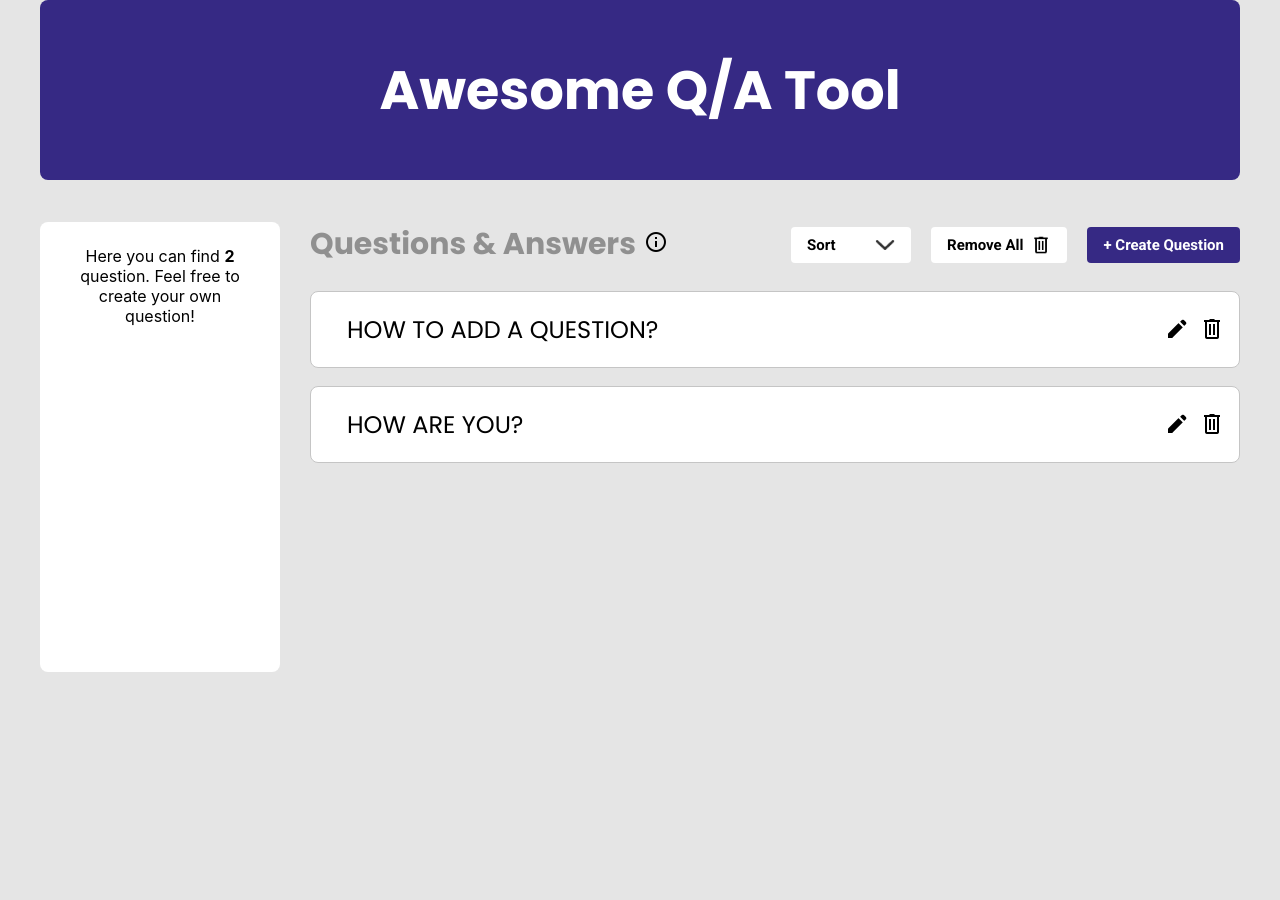
Scenario: Question Answers › sort button works as expected
Click the button with test id "create-button" at (1164, 244), box x1=1087 y1=226 x2=1240 y2=262
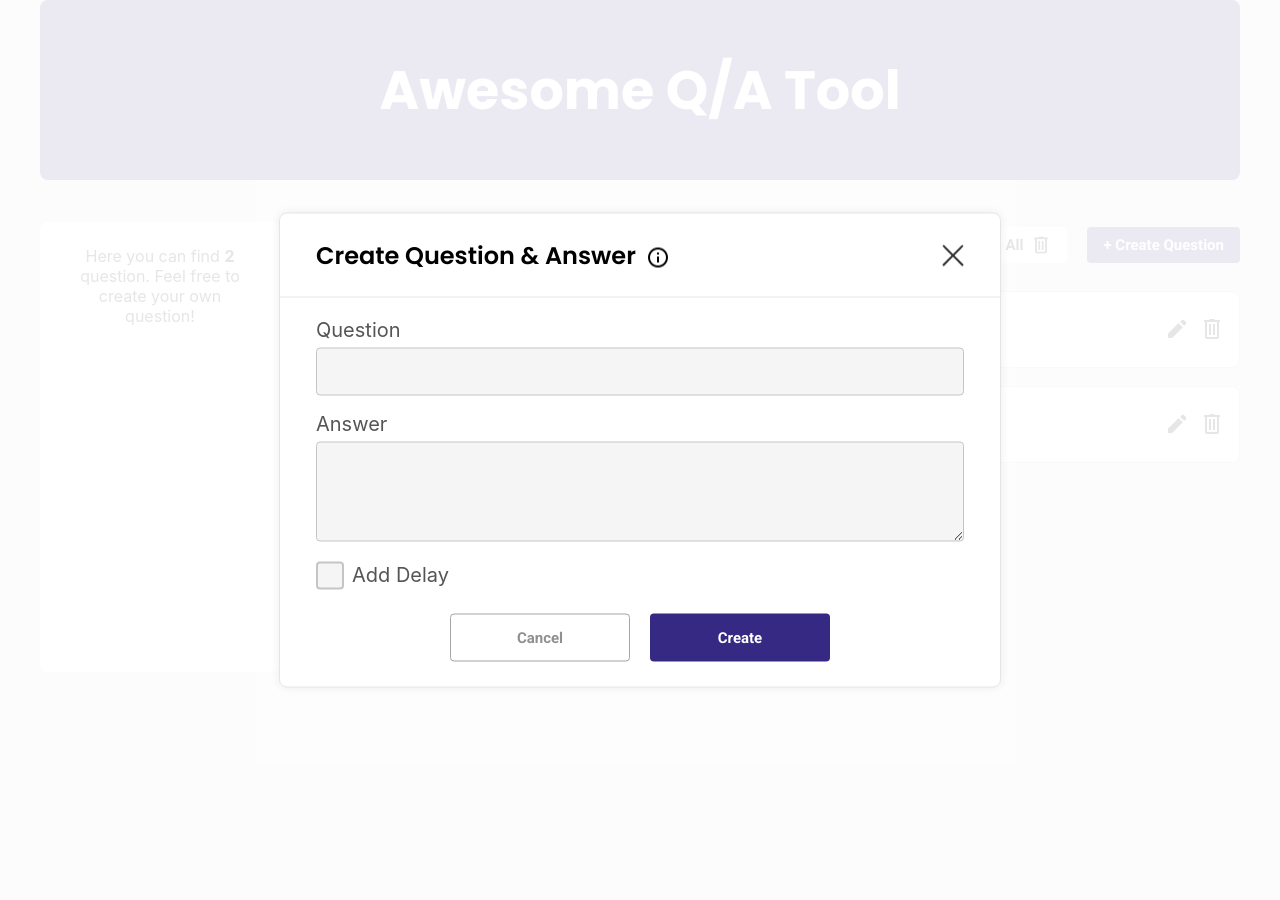
Type "ABCD How are you?" into the field with test id "form-input" at (640, 372), box x1=316 y1=348 x2=964 y2=396
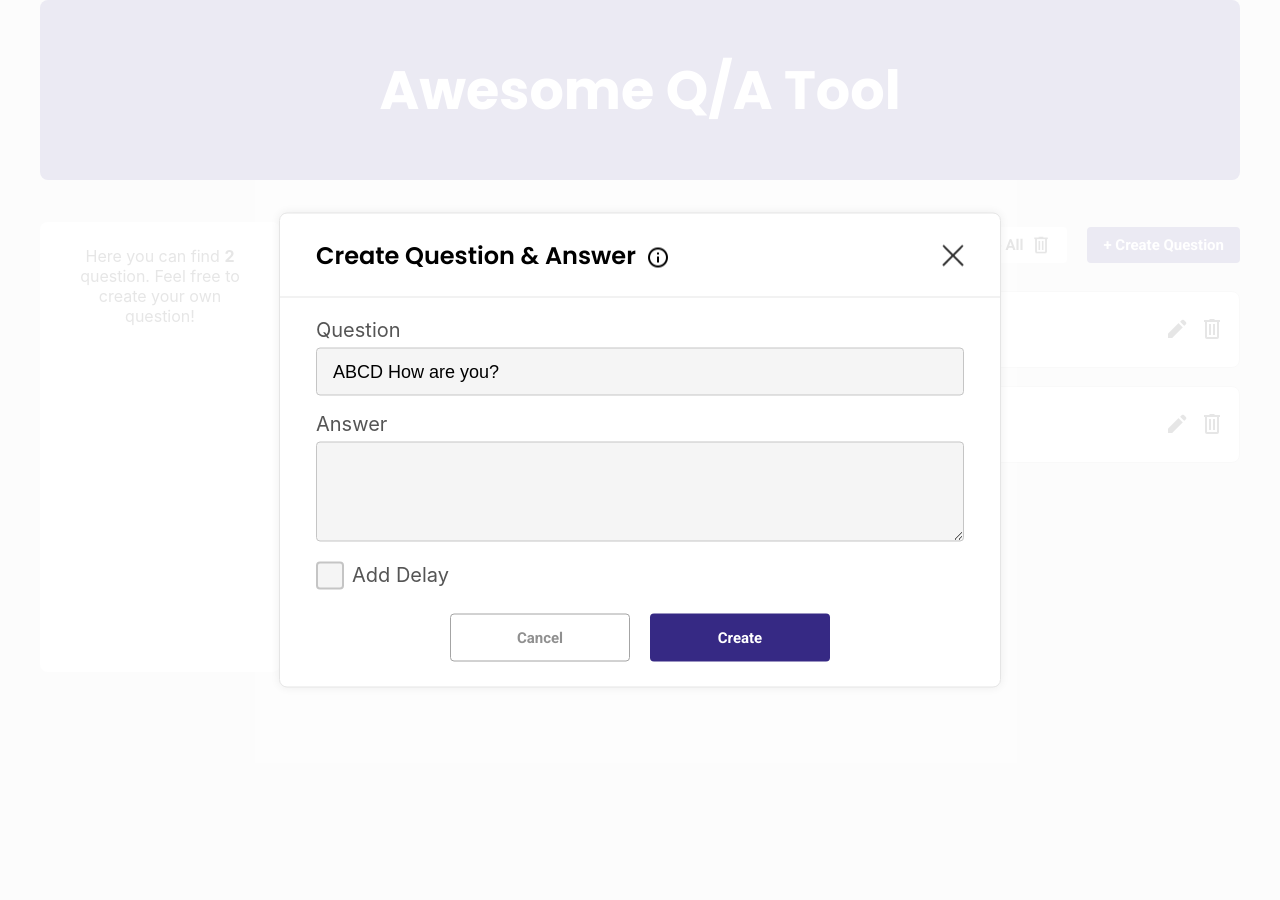
Type "I am Fine" into the text box with test id "text-area" at (640, 492), box x1=316 y1=442 x2=964 y2=542
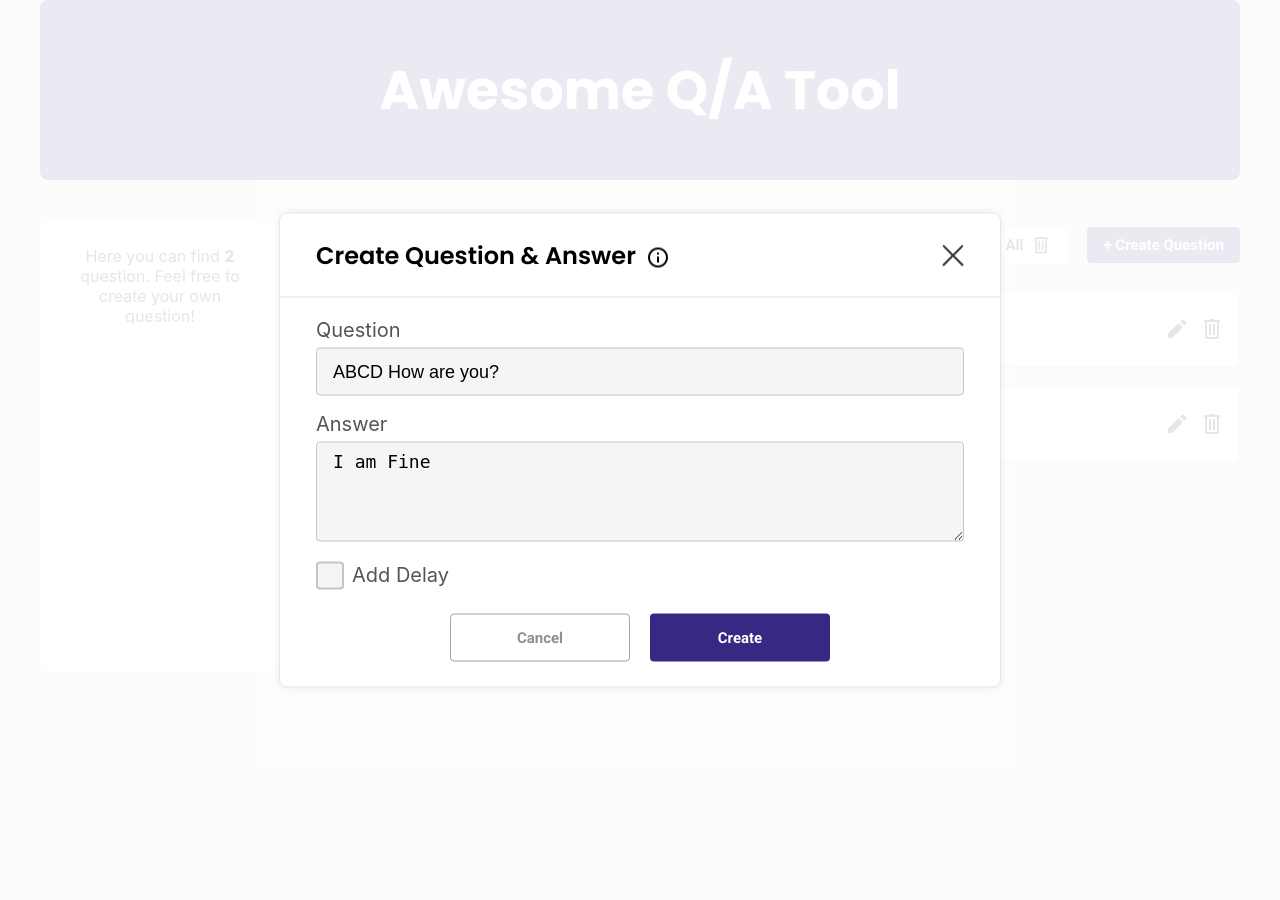
Click the button "Create" at (740, 638), box x1=650 y1=614 x2=830 y2=662
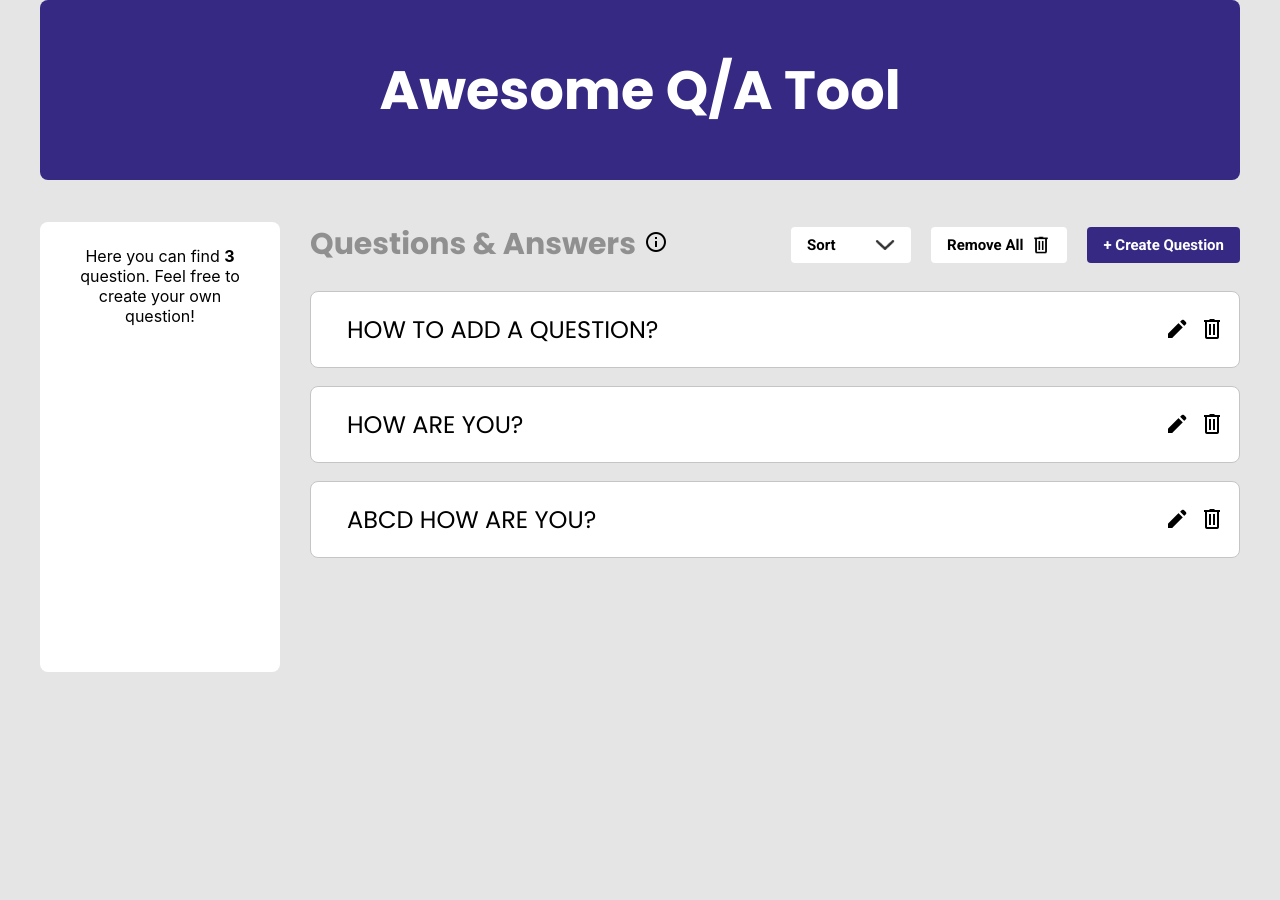
expect the heading with test id "question" reads "How to add a question?": met, box x1=347 y1=313 x2=658 y2=346
Click the button "Sort" at (851, 244), box x1=791 y1=226 x2=911 y2=262
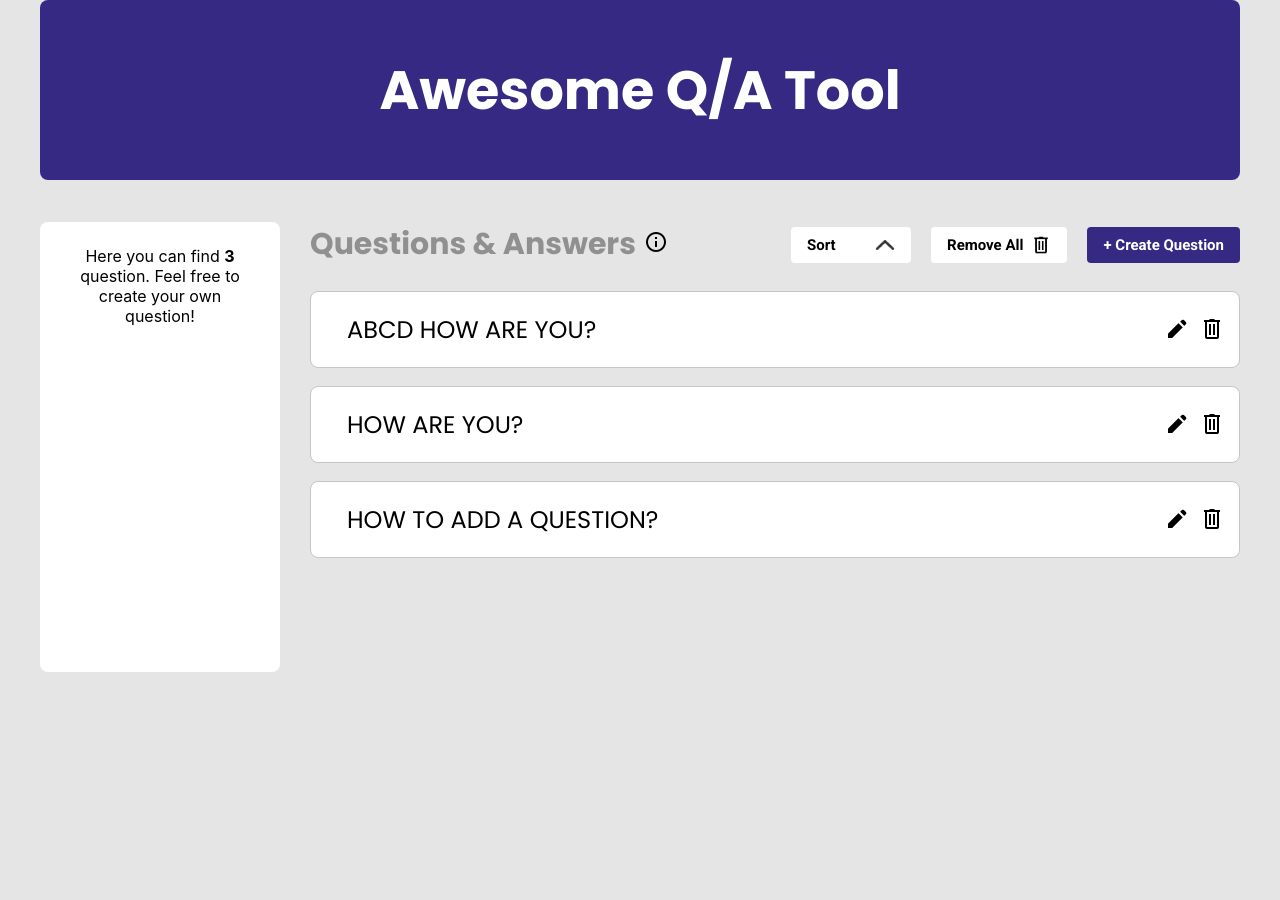
expect the heading with test id "question" reads "ABCD How are you?": met, box x1=347 y1=313 x2=596 y2=346
